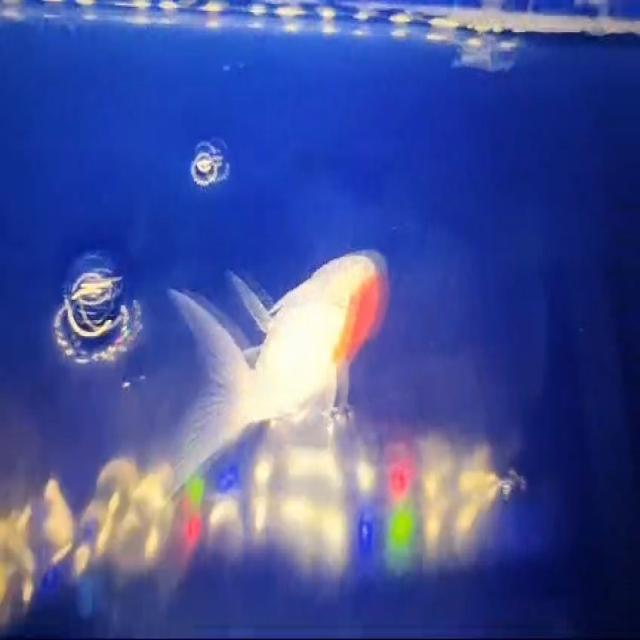fish: (163, 238, 403, 479)
